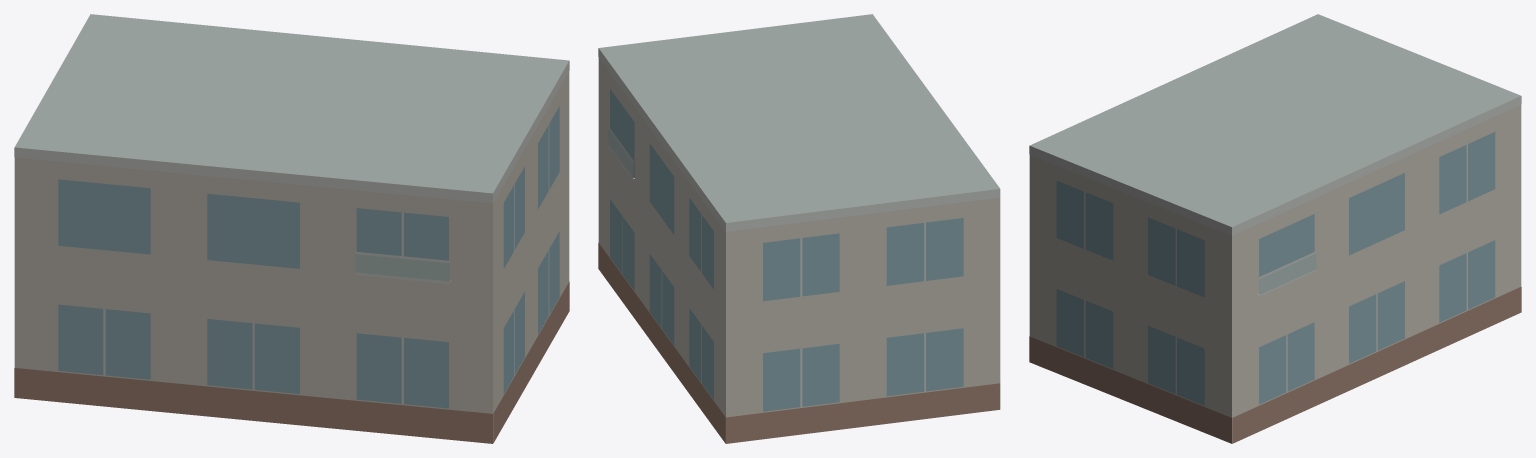
Rendered from survey-upis-32510353.glb.
3 views of the same model, side by side, from view 1: azimuth 30°, elevation 25°; view 2: azimuth 150°, elevation 25°; view 3: azimuth 270°, elevation 25° (orthographic). The views are drawn at different scales.
Visible parts, largest first — view 1: survey-upis-32510353.tmp; view 2: survey-upis-32510353.tmp; view 3: survey-upis-32510353.tmp.
Part boxes in pixels (x1,y1,x2,y2): survey-upis-32510353.tmp: [14, 14, 569, 443]; survey-upis-32510353.tmp: [598, 14, 1000, 443]; survey-upis-32510353.tmp: [1029, 14, 1521, 443].
Bounding box in the file's own units: 12.89 × 6.1 × 12.57.
